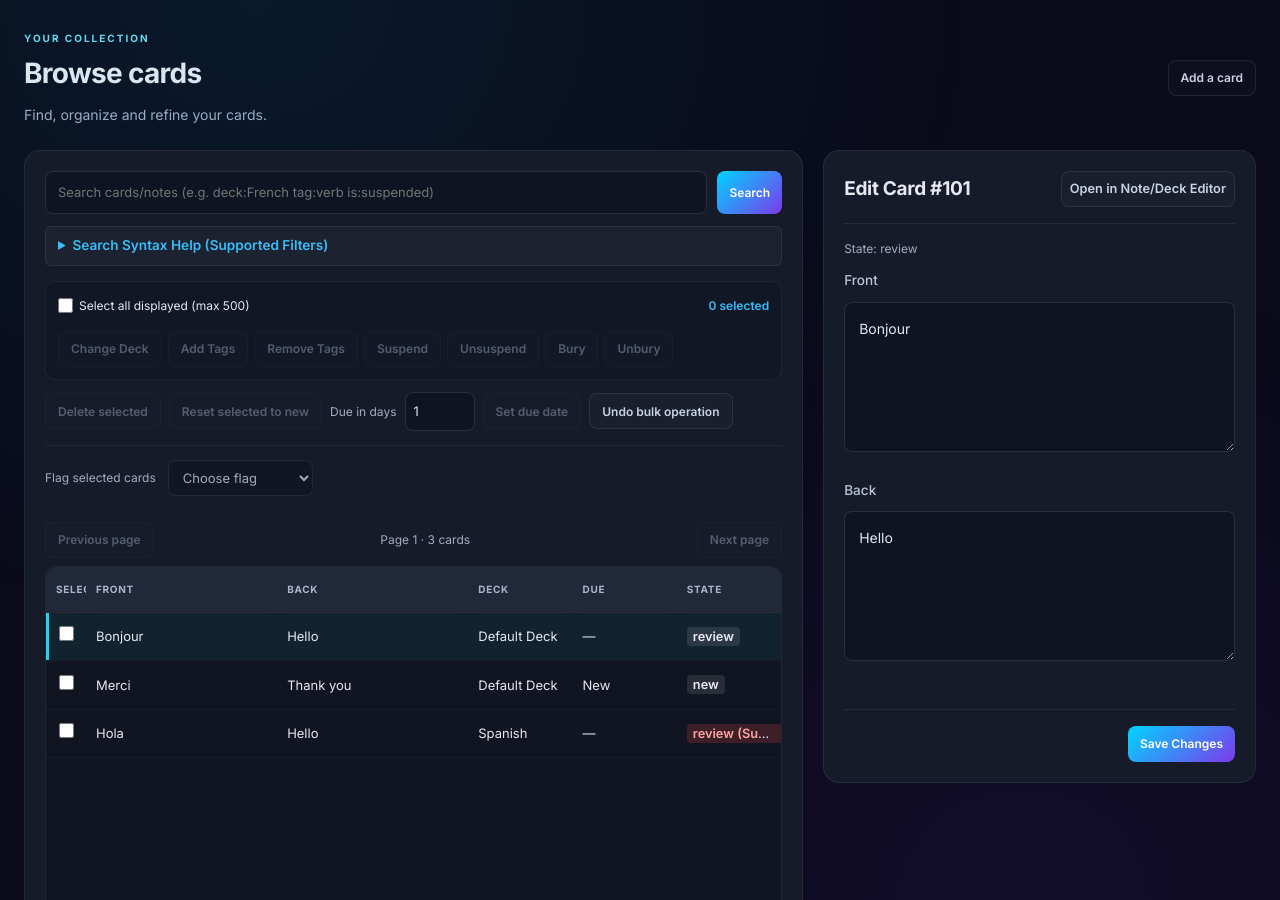
Test case: BrowsePage › displays 409 version conflict error when bulk action fails with conflict
Click the checkbox named "Select card 101". click: x=66, y=634
box: [58,626,74,641]
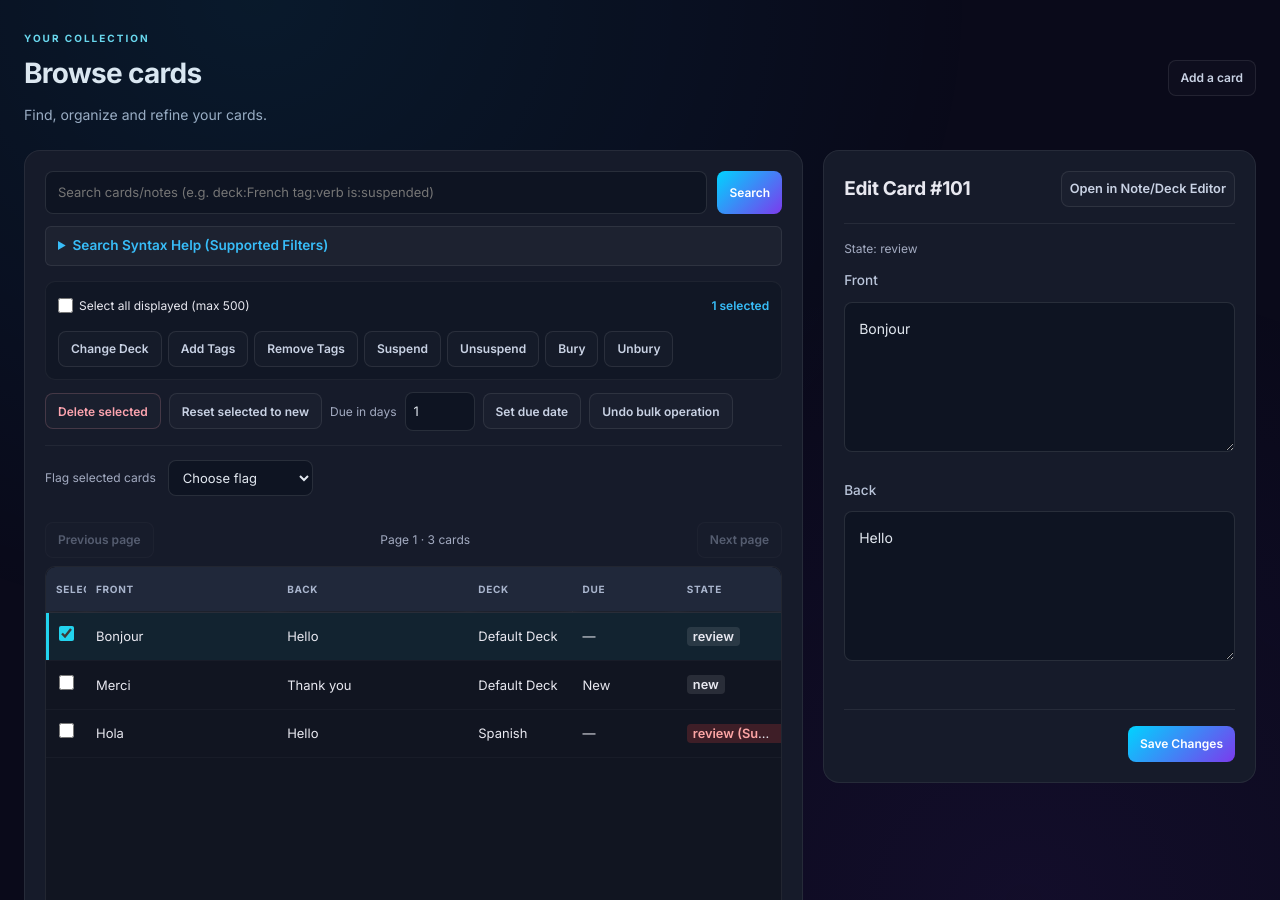
Click the button "Suspend". click: x=402, y=349
box: [364,331,441,367]
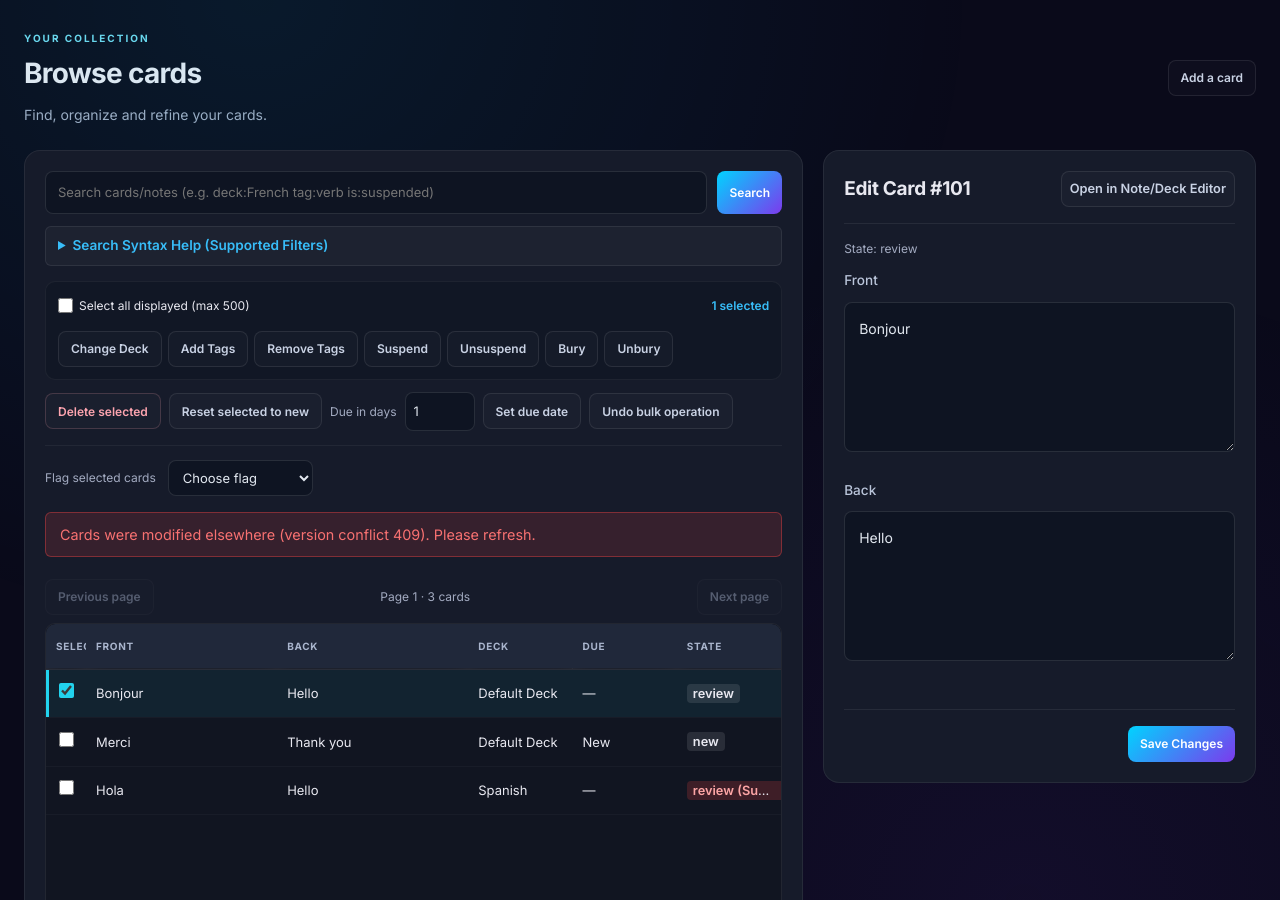
Now the message shows "version conflict 409", box [60,526,536,543]
